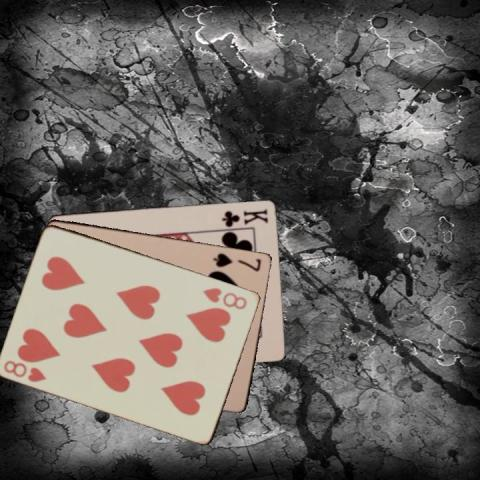7s: (211, 249, 262, 273)
8h: (200, 284, 249, 311), (1, 357, 48, 383)
Kc: (219, 205, 270, 227)
